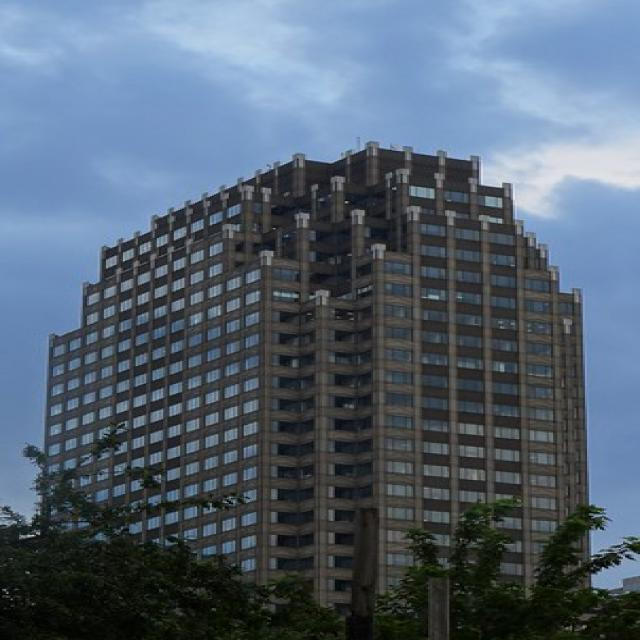Normal_building: (40, 140, 617, 636)
